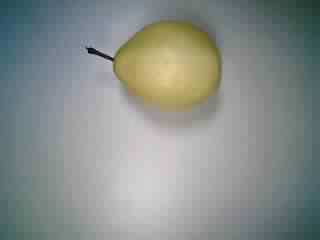pear: (80, 7, 234, 115)
